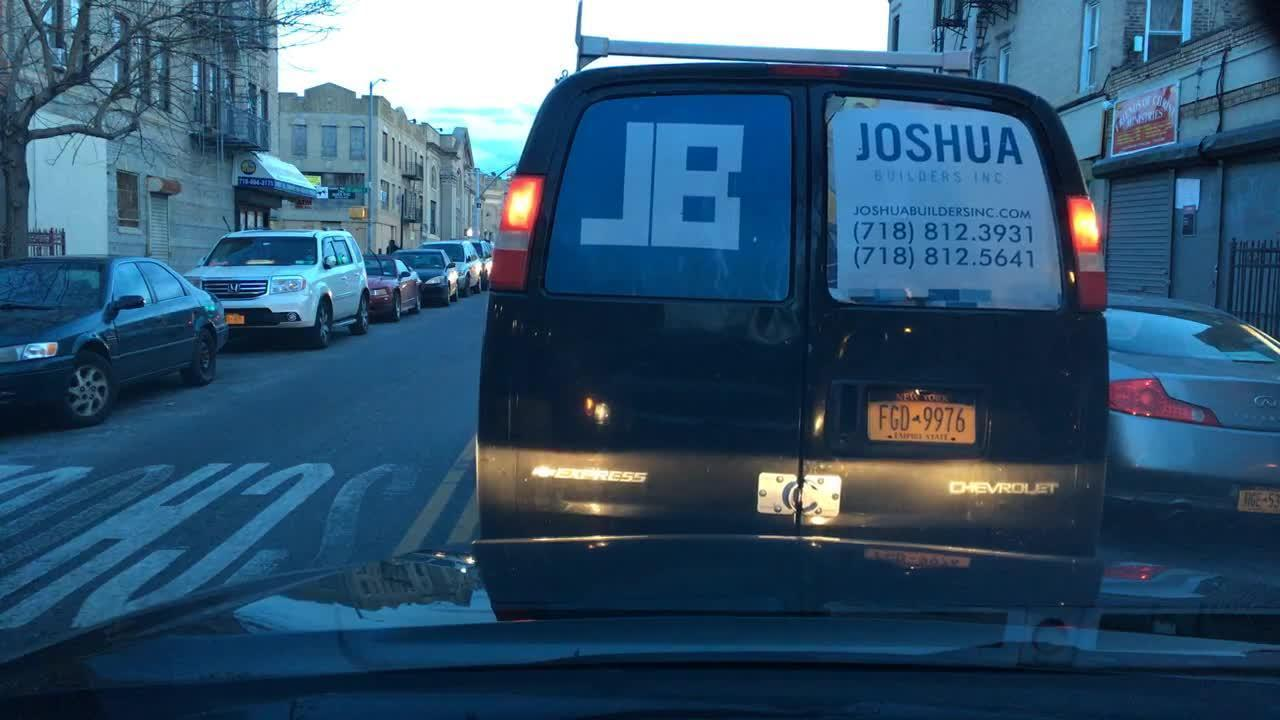Infiniti: (1248, 385, 1280, 417)
